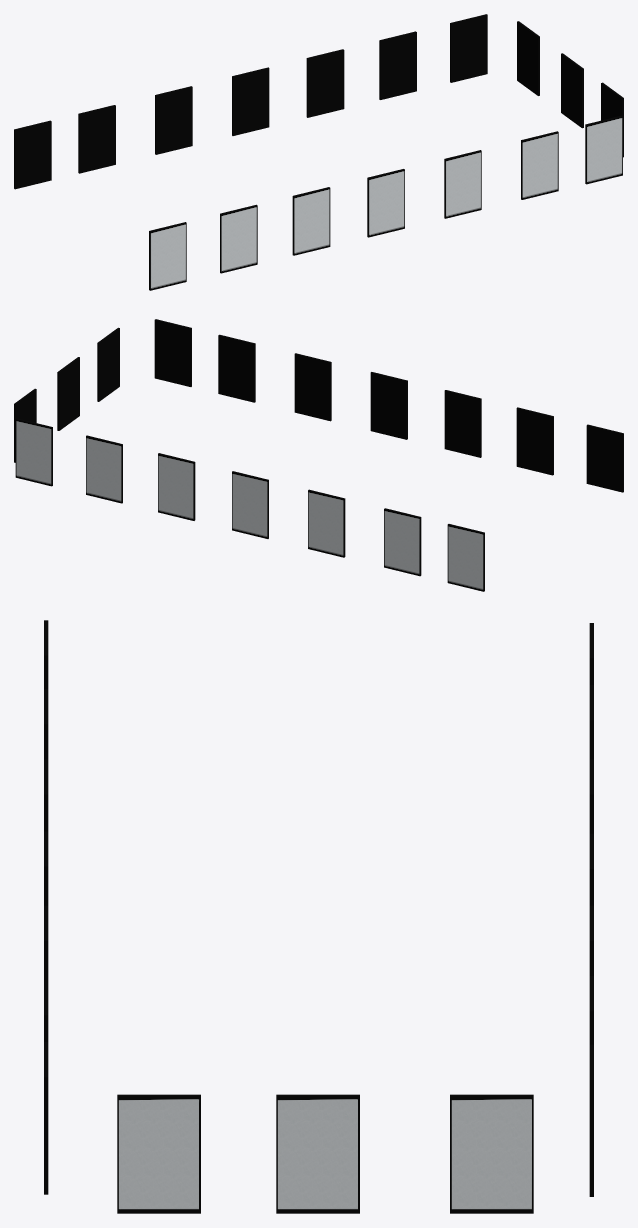
Rendered from factory_windows.obj.
The picture shows the model from 3 angles, top to bottom: view 1: azimuth 30°, elevation 25°; view 2: azimuth 150°, elevation 25°; view 3: azimuth 270°, elevation 25°; orthographic projection. The views are drawn at different scales.
Visible parts, largest first — view 1: Cube.007_Cube.008; view 2: Cube.007_Cube.008; view 3: Cube.007_Cube.008.
Part boxes in pixels (x1,y1,x2,y2): Cube.007_Cube.008: [14, 14, 623, 290]; Cube.007_Cube.008: [14, 319, 623, 591]; Cube.007_Cube.008: [44, 620, 593, 1213].
Size of the model in its own units: 6.77 by 0.7776 by 3.31.
1 material, 1 textured.
